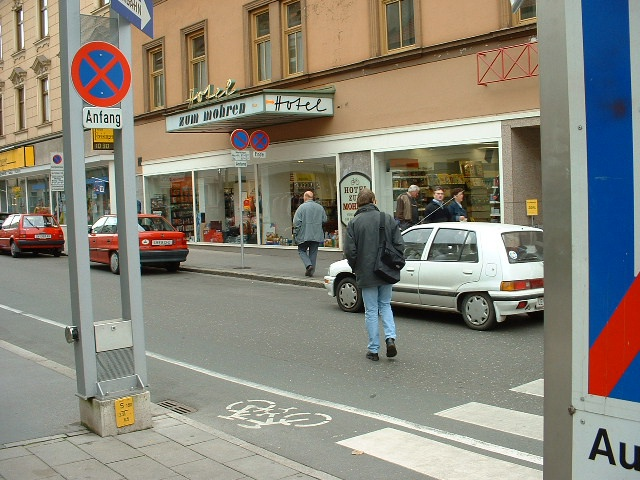person: (336, 184, 408, 365), (288, 188, 327, 278)
